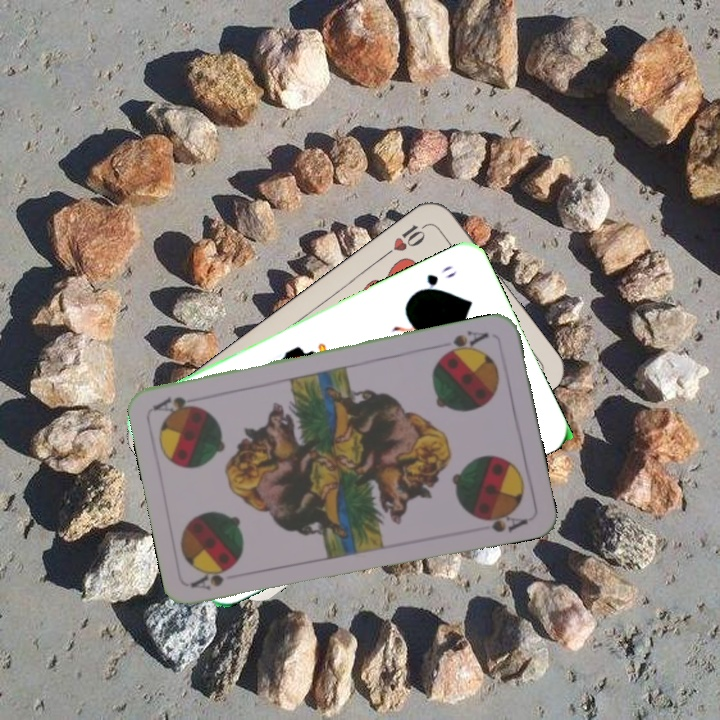GO: (410, 261, 460, 297)
H10: (379, 219, 430, 260)
SA: (438, 326, 491, 359), (188, 564, 236, 593)
